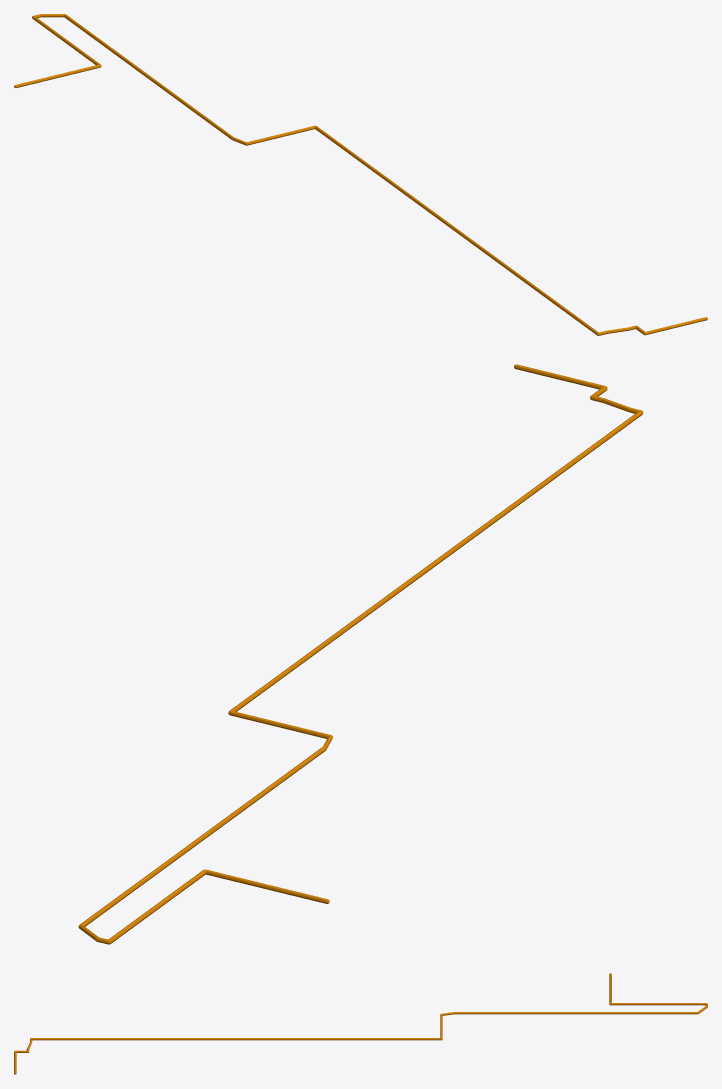
3 views of the same model, one above another, from view 1: azimuth 30°, elevation 25°; view 2: azimuth 150°, elevation 25°; view 3: azimuth 270°, elevation 25° (orthographic). The views are drawn at different scales.
Size of the model in its own units: 1849 by 20 by 5413.
